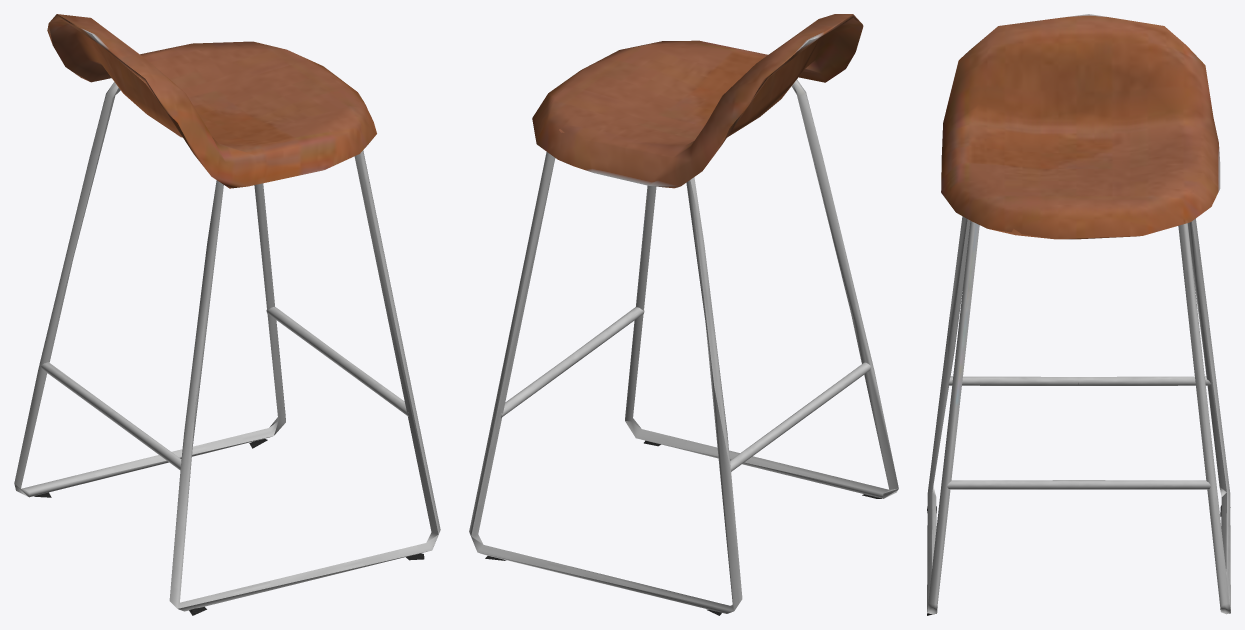
Rendered from Chair0034.obj.
The picture shows the model from 3 angles, left to right: view 1: azimuth 30°, elevation 25°; view 2: azimuth 150°, elevation 25°; view 3: azimuth 270°, elevation 25°; orthographic projection. The views are drawn at different scales.
Bounding box in the file's own units: 0.437 × 0.803 × 0.452.
1 material, 1 textured.
